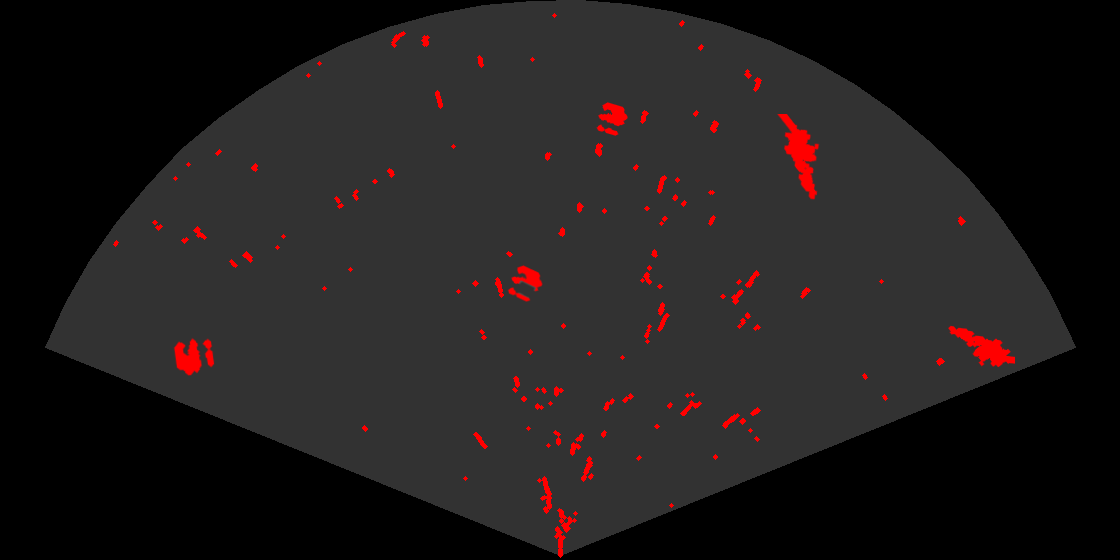ball: (172, 336, 216, 377), (506, 264, 544, 303), (595, 101, 629, 137)
frogman: (776, 114, 821, 201), (947, 324, 1015, 369)
